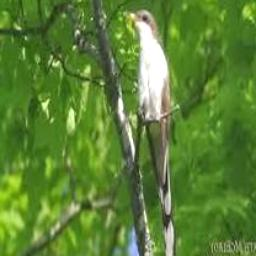Cuckoo: (130, 10, 177, 256)
